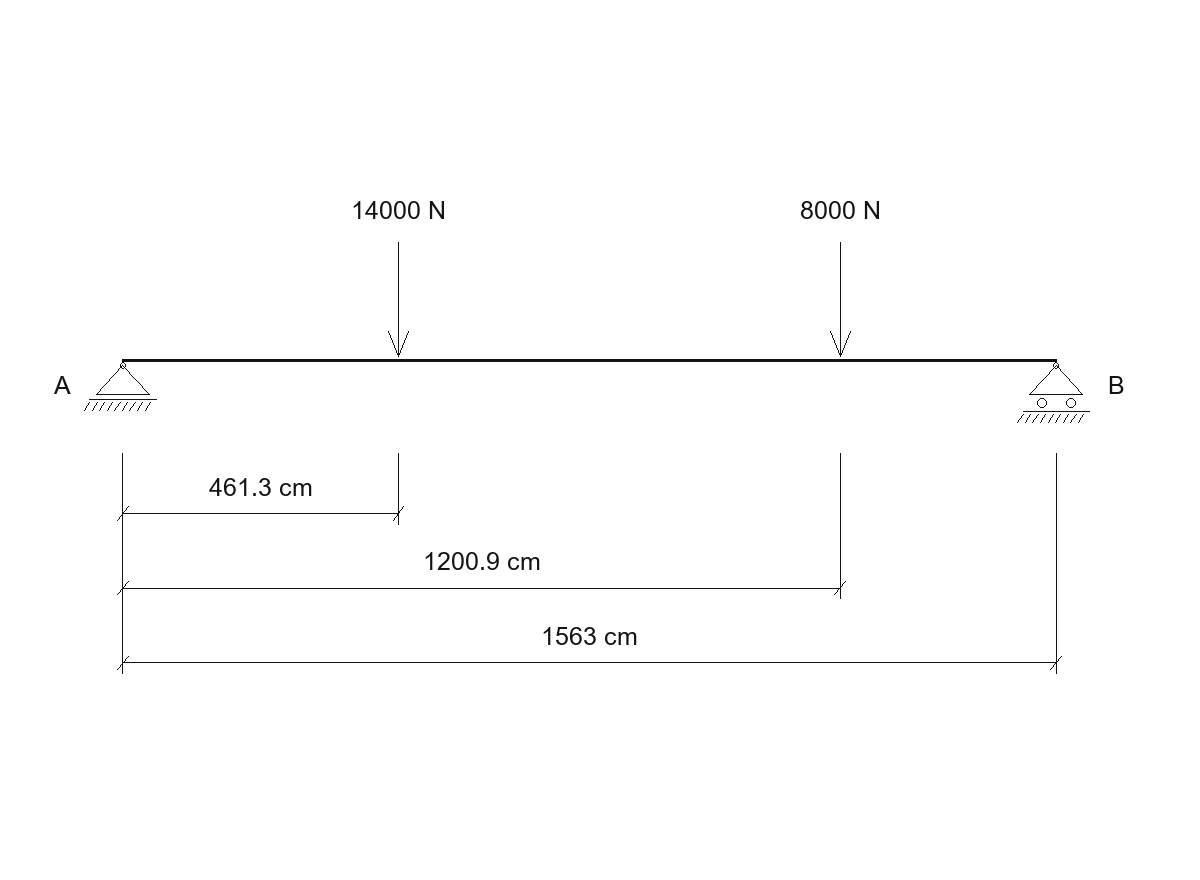pin_support: (84, 362, 157, 411)
point_load: (388, 242, 409, 357), (830, 242, 851, 357)
roller_support: (1017, 362, 1090, 423)
